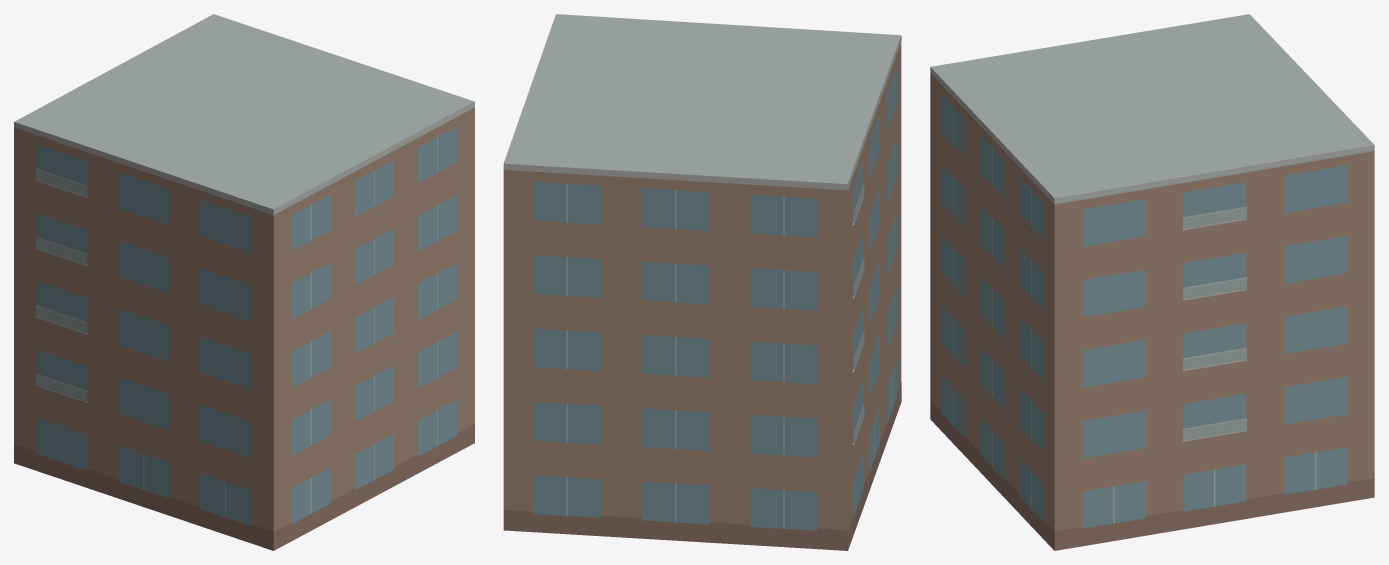
Rendered from survey-upis-32734424.glb.
3 views of the same model, side by side, from view 1: azimuth 30°, elevation 25°; view 2: azimuth 150°, elevation 25°; view 3: azimuth 270°, elevation 25° (orthographic). The views are drawn at different scales.
Visible parts, largest first — view 1: survey-upis-32734424.tmp; view 2: survey-upis-32734424.tmp; view 3: survey-upis-32734424.tmp.
Part boxes in pixels (<box>): survey-upis-32734424.tmp: <box>14,14,474,550</box>; survey-upis-32734424.tmp: <box>503,14,901,550</box>; survey-upis-32734424.tmp: <box>930,14,1374,550</box>.
Size of the model in its own units: 16.17 by 14.4 by 16.46.
